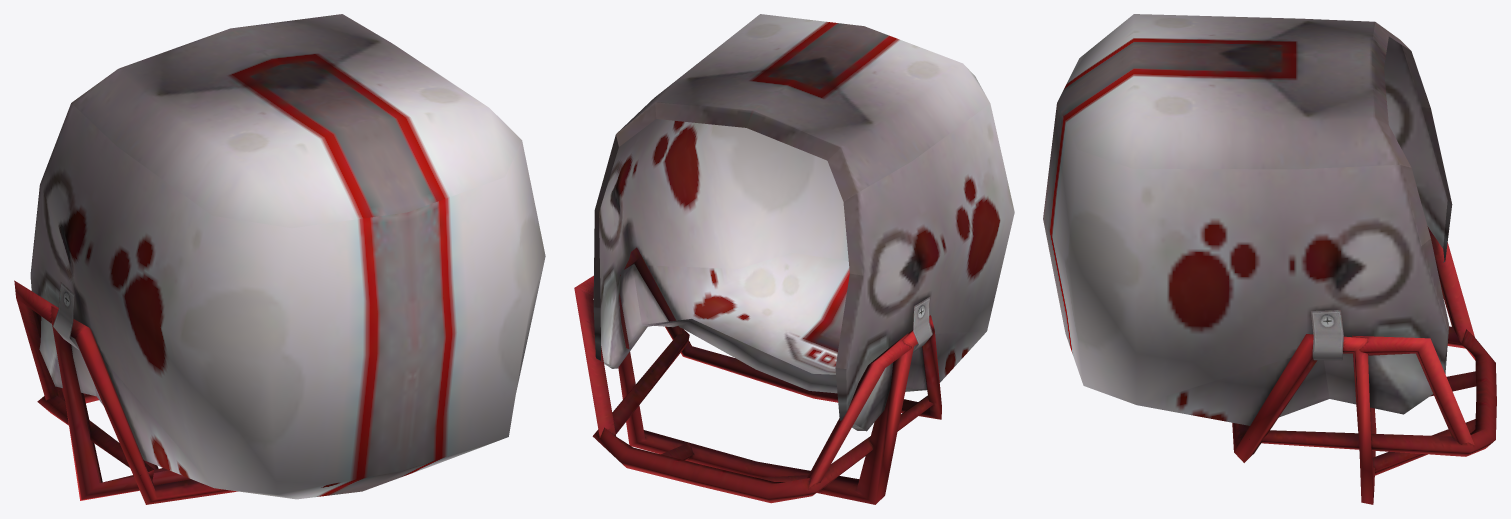
The model's file is HaoKe_B_03_High_dfd2e71a__HaoKe_B_03_26194c15_c1f257.obj.
The picture shows the model from 3 angles, left to right: view 1: azimuth 30°, elevation 25°; view 2: azimuth 150°, elevation 25°; view 3: azimuth 270°, elevation 25°; orthographic projection. The views are drawn at different scales.
Bounding box in the file's own units: 1.24 × 1.4 × 1.46.
Materials: 1 (1 with a texture image).
